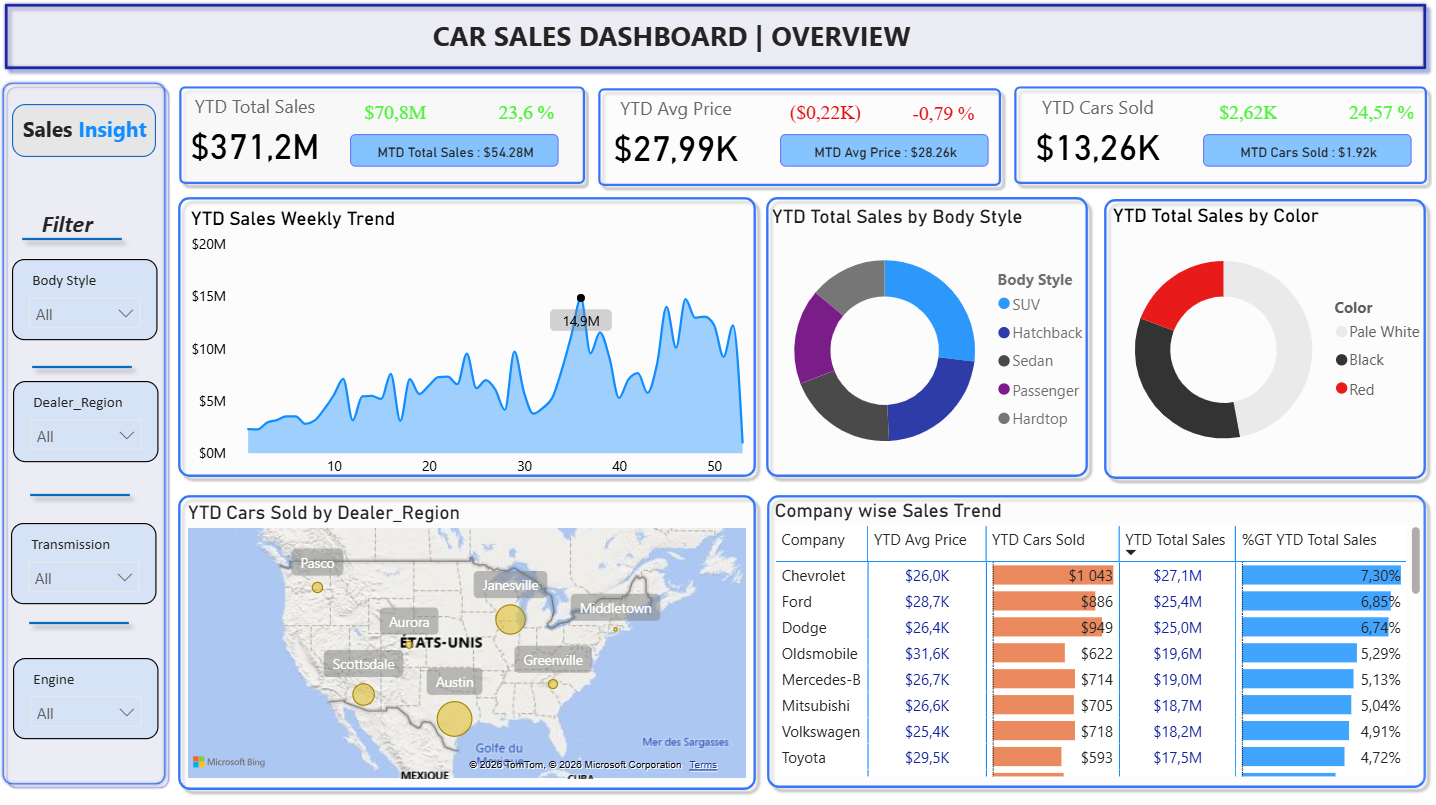

What the dashboard file says about the page in this screenshot:
{"tool":"powerbi","page":{"name":"Overview","canvas":[1280,720],"ordinal":0},"visuals":[{"type":"shape","box":[0,71.8,154.3,637.5],"z":0},{"type":"shape","box":[20.4,160.5,110,47],"z":1000},{"type":"shape","box":[0,0,1280.4,71.8],"z":2000},{"type":"shape","box":[148.1,71.8,374.2,101.1],"z":3000},{"type":"shape","box":[893.8,71.8,380.4,101.1],"z":4000},{"type":"shape","box":[522.3,71.8,371.5,101.1],"z":5000},{"type":"shape","box":[148.1,172.9,526.7,260.7],"z":6000},{"type":"shape","box":[148.1,433.6,526.7,275.8],"z":7000},{"type":"shape","box":[974.5,172.9,299.7,262.5],"z":8000},{"type":"shape","box":[675.7,435.4,598.5,274],"z":9000},{"type":"cardVisual","fields":{"Data":["car_data.YTD Total Sales"]},"box":[135.7,59.4,186.2,117],"z":10000},{"type":"cardVisual","fields":{"Data":["car_data.Sales Difference"]},"box":[300.6,53.2,105.5,94],"z":11000},{"type":"cardVisual","fields":{"Data":["car_data.YOY Sales Growth"]},"box":[416.7,53.2,105.5,94],"z":12000},{"type":"card","fields":{"Values":["car_data.MTD KPI"]},"box":[313,122.4,185.3,29.3],"z":13000},{"type":"cardVisual","fields":{"Data":["car_data.YTD Avg Price"]},"box":[513.4,59.4,186.2,117],"z":14000},{"type":"cardVisual","fields":{"Data":["car_data.Avg Price Diff"]},"box":[681.9,53.2,105.5,94],"z":15000},{"type":"cardVisual","fields":{"Data":["car_data.YOY Avg Price Growth"]},"box":[786.5,54.1,105.5,94],"z":16000},{"type":"card","fields":{"Values":["car_data.MTD Avg Price KPI"]},"box":[694.3,122.4,185.3,29.3],"z":17000},{"type":"cardVisual","fields":{"Data":["car_data.YTD Cars Sold"]},"box":[881.4,61.2,186.2,117],"z":18000},{"type":"cardVisual","fields":{"Data":["car_data.Cars Sold Diff"]},"box":[1056.9,53.2,105.5,94],"z":19000},{"type":"cardVisual","fields":{"Data":["car_data.YOY Car Sold Growth"]},"box":[1174.9,53.2,105.5,94],"z":20000},{"type":"card","fields":{"Values":["car_data.MTD Car Sold KPI"]},"box":[1069.4,122.4,185.3,29.3],"z":21000},{"type":"areaChart","title":"YTD Sales Weekly Trend","fields":{"Category":["Calendar Table.Week"],"Y":["Sum(car_data.Price ($))","car_data.Max Point"]},"box":[157.8,185.3,517.8,248.3],"z":22000},{"type":"donutChart","fields":{"Category":["car_data.Body Style"],"Y":["car_data.YTD Total Sales"]},"box":[681.9,185.3,294.4,239.4],"z":23000},{"type":"donutChart","fields":{"Y":["car_data.YTD Total Sales"],"Category":["car_data.Color"]},"box":[984.2,184.4,291.7,239.4],"z":24000},{"type":"map","fields":{"Category":["car_data.Dealer_Region"],"Size":["car_data.YTD Cars Sold"]},"box":[157.8,446,504.5,250.9],"z":25000},{"type":"tableEx","title":"Company wise Sales Trend","fields":{"Values":["car_data.Company","car_data.YTD Avg Price","car_data.YTD Cars Sold","car_data.YTD Total Sales1","car_data.YTD Total Sales"]},"box":[684.5,446,583.4,250.9],"z":26000},{"type":"textbox","box":[381.3,13.3,517.8,58.5],"z":27000},{"type":"slicer","fields":{"Values":["car_data.Body Style"]},"box":[7.1,233.2,143.6,71.8],"z":28000},{"type":"slicer","fields":{"Values":["car_data.Engine"]},"box":[3.5,584.3,140.1,71.8],"z":29000},{"type":"slicer","fields":{"Values":["car_data.Transmission"]},"box":[0,467.3,149.9,71.8],"z":30000},{"type":"slicer","fields":{"Values":["car_data.Dealer_Region"]},"box":[0.9,350.2,142.8,71.8],"z":31000},{"type":"shape","box":[674.8,171.1,299.7,262.5],"z":32000},{"type":"shape","box":[22.2,274.9,106.4,85.1],"z":33000},{"type":"shape","box":[19.5,403.4,106.4,85.1],"z":34000},{"type":"shape","box":[19.5,513.4,106.4,85.1],"z":35000},{"type":"textbox","box":[32.8,160.5,87.8,47],"z":36000},{"type":"shape","box":[22.2,172.9,106.4,85.1],"z":37000}]}

Visuals, with their boxes in screenshot pixels (x1, y1, x2, y2), scaled from the page's 1280x720 canvas onto the 1436x805 screenshot:
shape: 0:80:173:793
shape: 23:179:146:232
shape: 0:0:1435:80
shape: 166:80:586:193
shape: 1003:80:1429:193
shape: 586:80:1003:193
shape: 166:193:757:485
shape: 166:485:757:793
shape: 1093:193:1429:487
shape: 758:487:1429:793
cardVisual - car_data.YTD Total Sales: 152:66:361:197
cardVisual - car_data.Sales Difference: 337:59:456:165
cardVisual - car_data.YOY Sales Growth: 467:59:586:165
card - car_data.MTD KPI: 351:137:559:170
cardVisual - car_data.YTD Avg Price: 576:66:785:197
cardVisual - car_data.Avg Price Diff: 765:59:883:165
cardVisual - car_data.YOY Avg Price Growth: 882:60:1001:166
card - car_data.MTD Avg Price KPI: 779:137:987:170
cardVisual - car_data.YTD Cars Sold: 989:68:1198:199
cardVisual - car_data.Cars Sold Diff: 1186:59:1304:165
cardVisual - car_data.YOY Car Sold Growth: 1318:59:1435:165
card - car_data.MTD Car Sold KPI: 1200:137:1408:170
"YTD Sales Weekly Trend" areaChart: 177:207:758:485
donutChart - car_data.Body Style x car_data.YTD Total Sales: 765:207:1095:475
donutChart - car_data.YTD Total Sales x car_data.Color: 1104:206:1431:474
map - car_data.Dealer_Region x car_data.YTD Cars Sold: 177:499:743:779
"Company wise Sales Trend" tableEx: 768:499:1422:779
textbox: 428:15:1009:80
slicer - car_data.Body Style: 8:261:169:341
slicer - car_data.Engine: 4:653:161:734
slicer - car_data.Transmission: 0:522:168:603
slicer - car_data.Dealer_Region: 1:392:161:472
shape: 757:191:1093:485
shape: 25:307:144:402
shape: 22:451:141:546
shape: 22:574:141:669
textbox: 37:179:135:232
shape: 25:193:144:288
